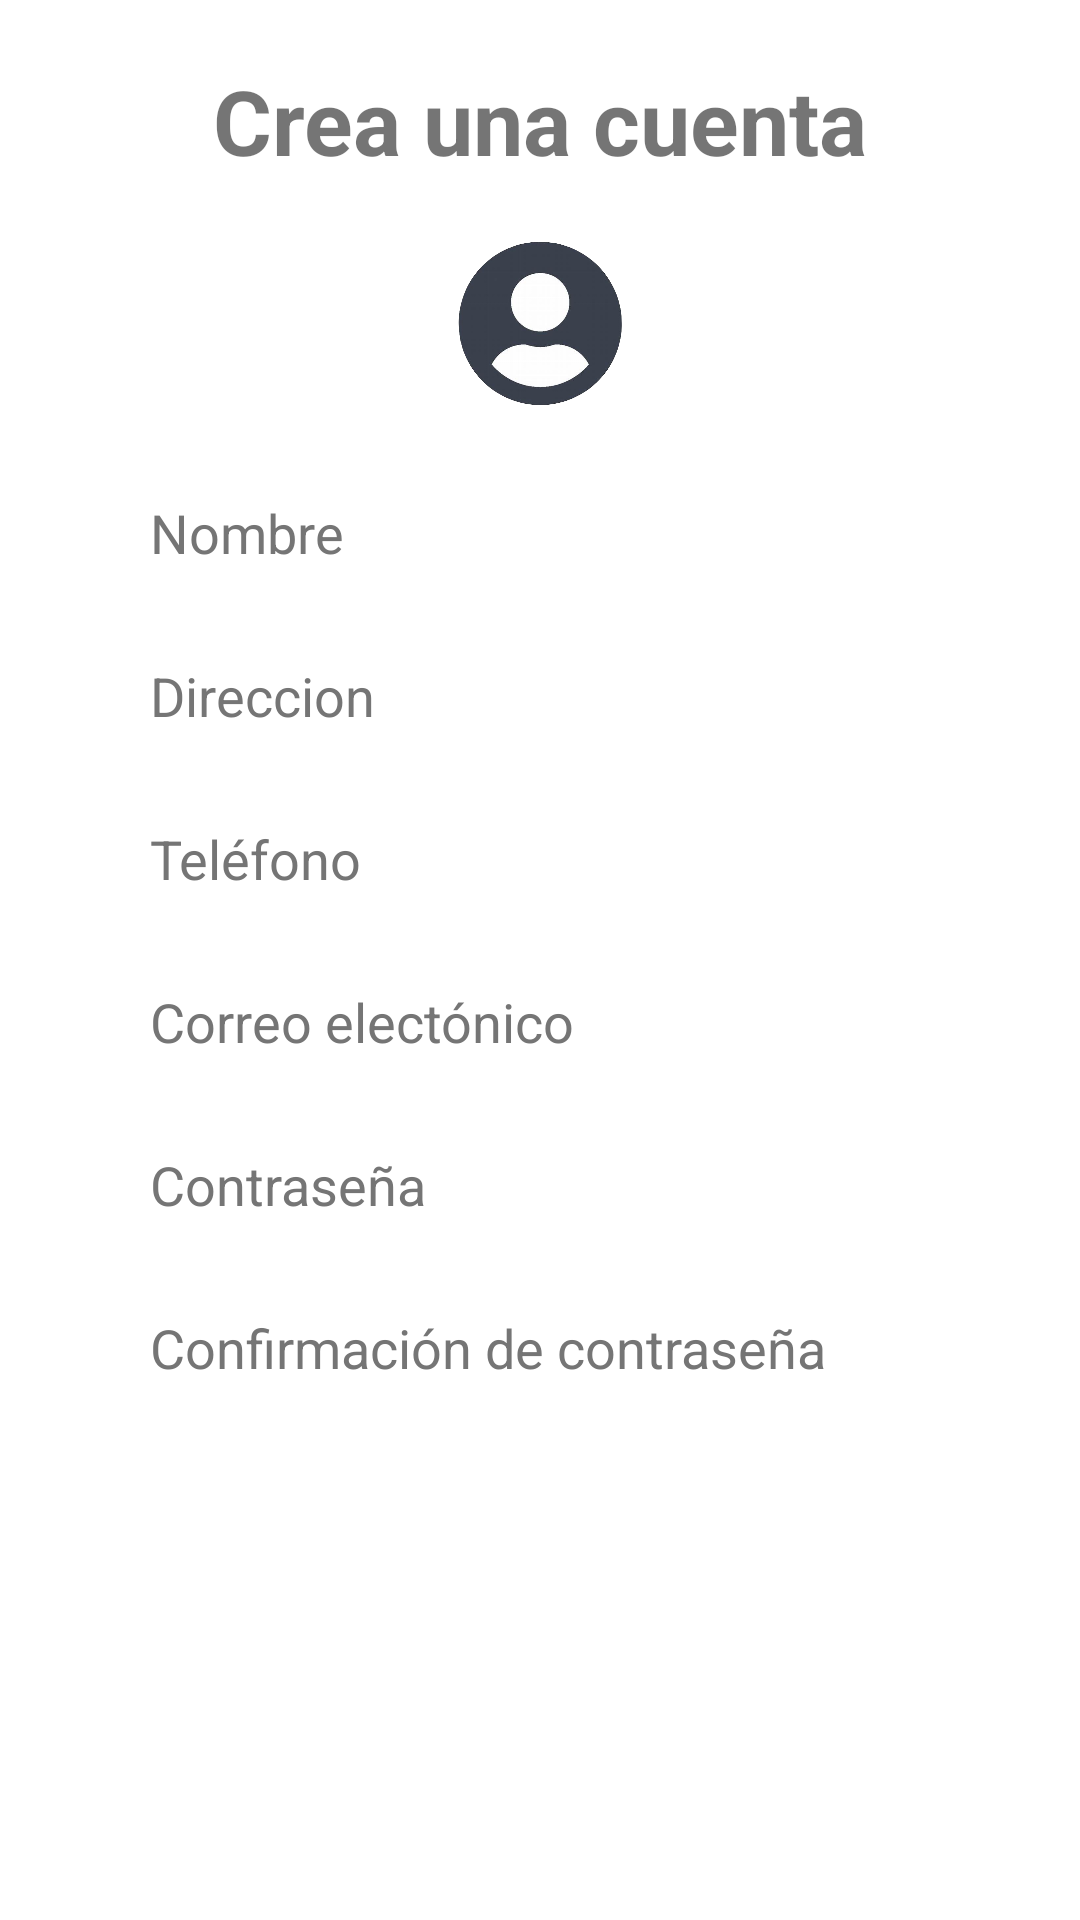

Where to tap for icons on this 1080 x 1920 app screen, as [x,y]:
user: [540,323]
